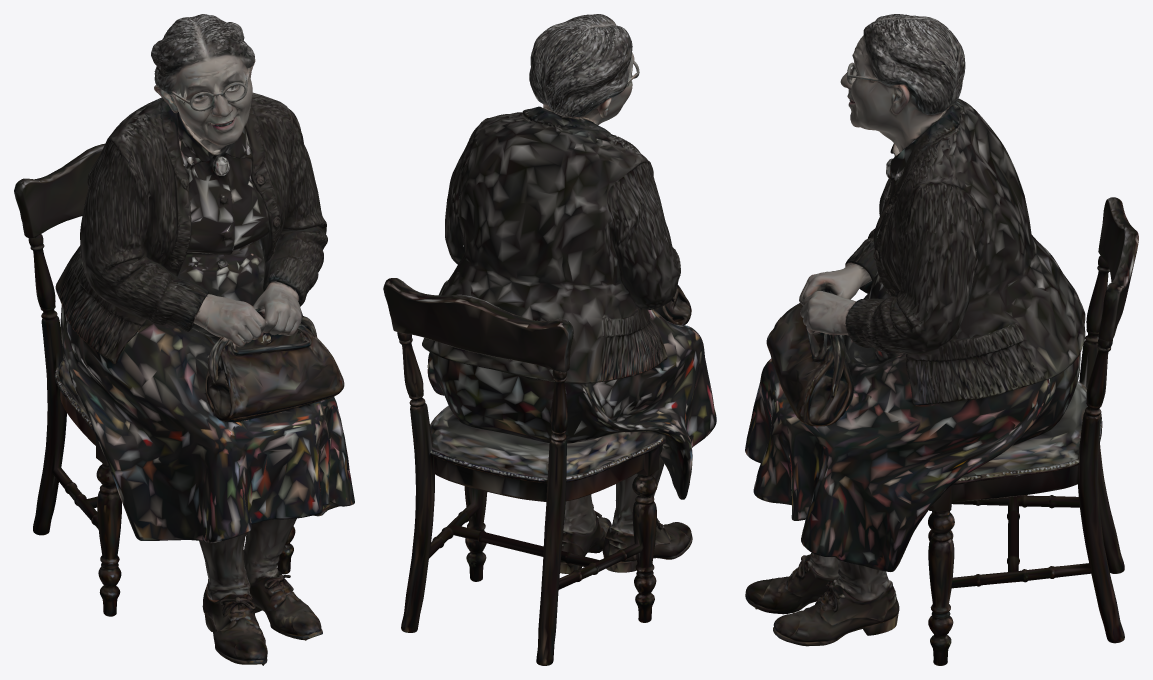
3 renders of one model, left to right at view 1: azimuth 30°, elevation 25°; view 2: azimuth 150°, elevation 25°; view 3: azimuth 270°, elevation 25°, orthographic. The views are drawn at different scales.
Bounding box in the file's own units: 0.402 × 0.9794 × 0.5848.
